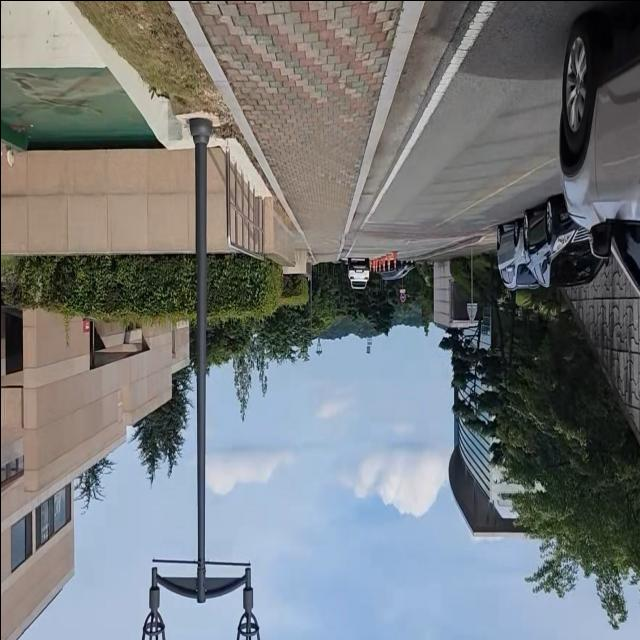obstacle: (135, 109, 264, 640), (548, 0, 640, 329), (490, 184, 611, 301), (339, 248, 377, 298)
road: (340, 0, 604, 262)
sidewalk: (180, 0, 417, 254)
